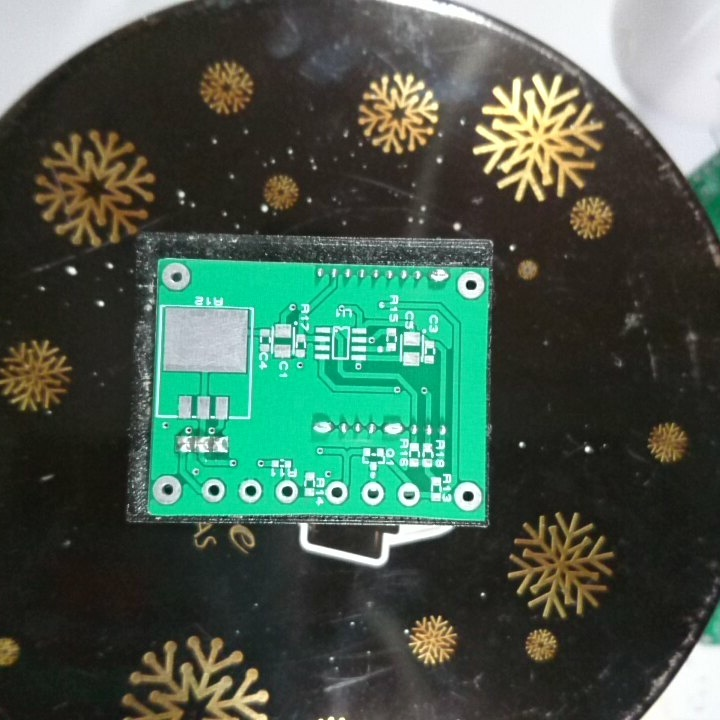F: (150, 472, 182, 509), (160, 258, 192, 294), (453, 269, 486, 300), (451, 480, 482, 513), (199, 475, 226, 506), (395, 480, 422, 510), (237, 476, 264, 506), (359, 479, 387, 507), (323, 478, 351, 506), (273, 476, 299, 506)
P: (310, 418, 335, 436), (382, 418, 403, 439), (428, 267, 451, 286)
